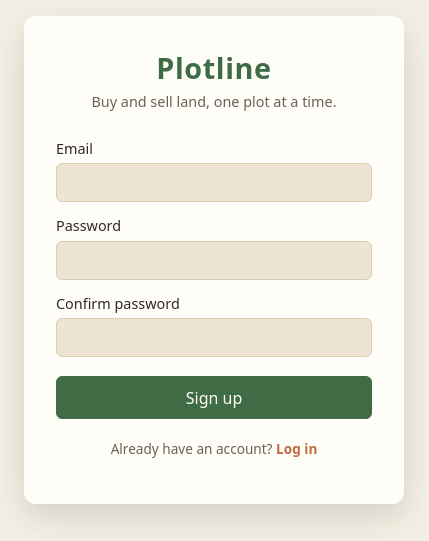
Test case: RegisterPage › registers and shows the confirmation message on success
Step 1. Type "user@example.com" into the field labelled "Email" → [214, 183], box 56,163 -> 372,202
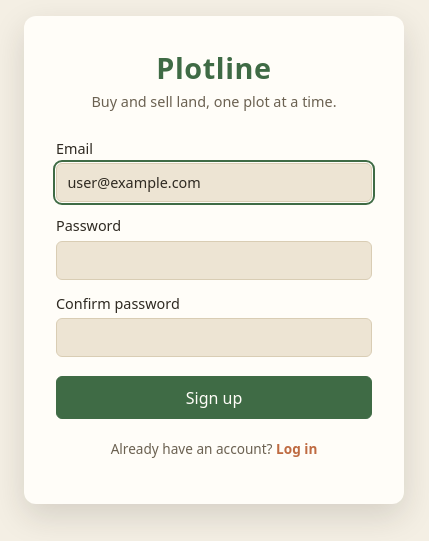
Step 2. Type "password123" into the password field labelled "Password" → [214, 260], box 56,241 -> 372,280
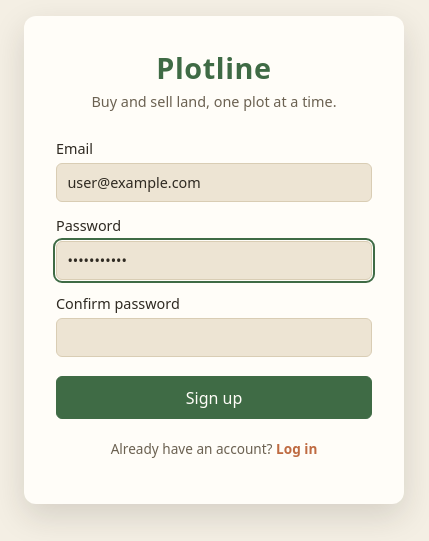
Step 3. Type "password123" into the password field labelled "Confirm password" → [214, 338], box 56,318 -> 372,357
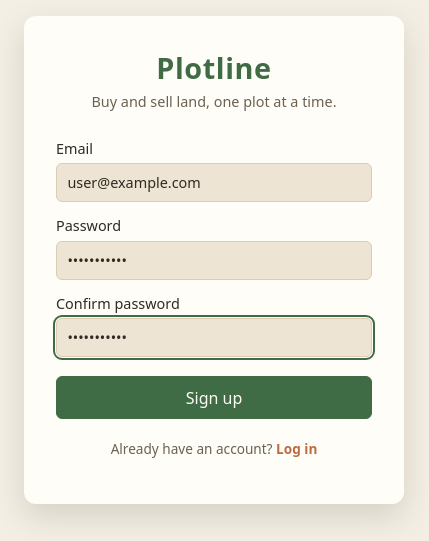
Step 4. Click the button "Sign up" → [214, 398], box 56,376 -> 372,420
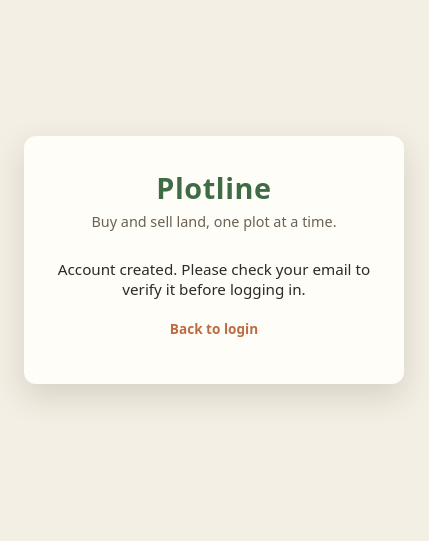
Expected: the text "Account created. Please check your email to verify it before logging in." is shown, 56,259 -> 372,299
